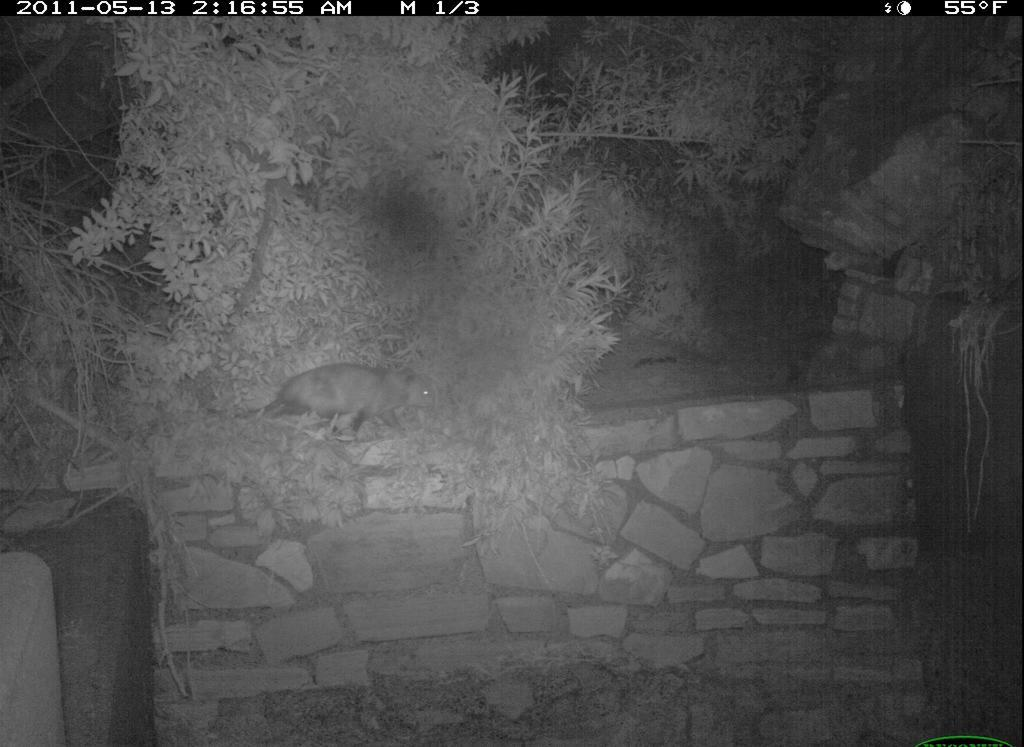opossum: (218, 342, 455, 469)
